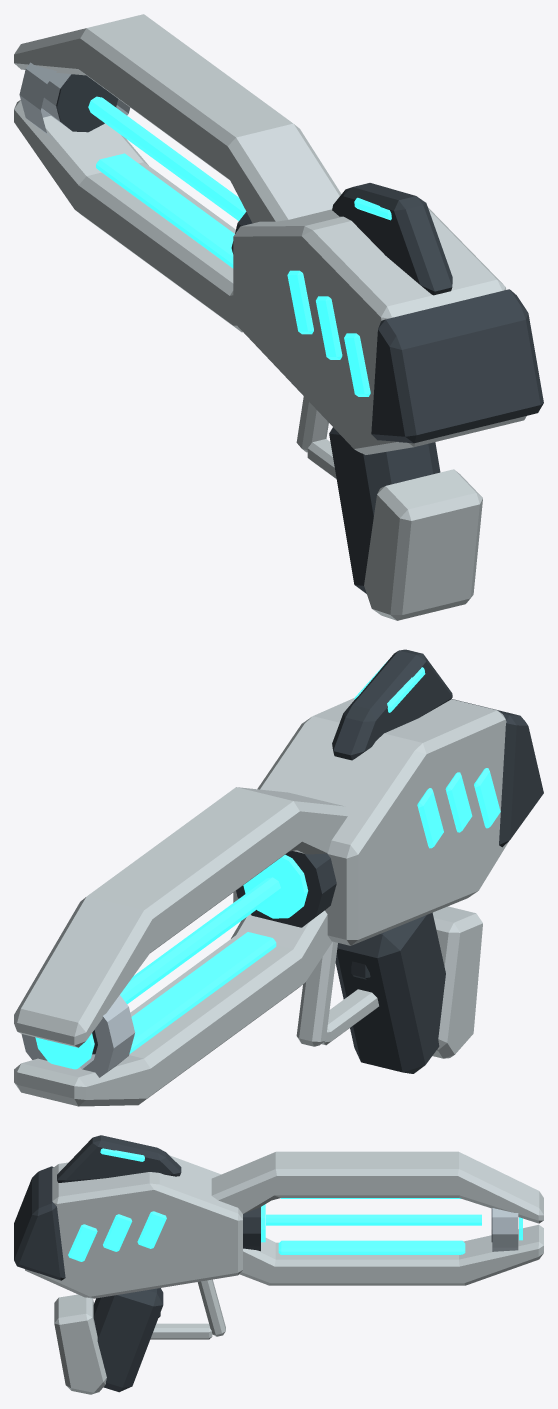
The model's file is LaserGun.fbx.
The picture shows the model from 3 angles, top to bottom: view 1: azimuth 30°, elevation 25°; view 2: azimuth 150°, elevation 25°; view 3: azimuth 270°, elevation 25°; orthographic projection. The views are drawn at different scales.
Parts seen in each view (by area): view 1: LaserGunMesh; view 2: LaserGunMesh; view 3: LaserGunMesh.
Boxes of the visible parts, <box> form: LaserGunMesh: <box>14,14,543,620</box>; LaserGunMesh: <box>14,649,543,1106</box>; LaserGunMesh: <box>14,1135,543,1394</box>.
Size of the model in its own units: 15 by 41.89 by 81.03.
